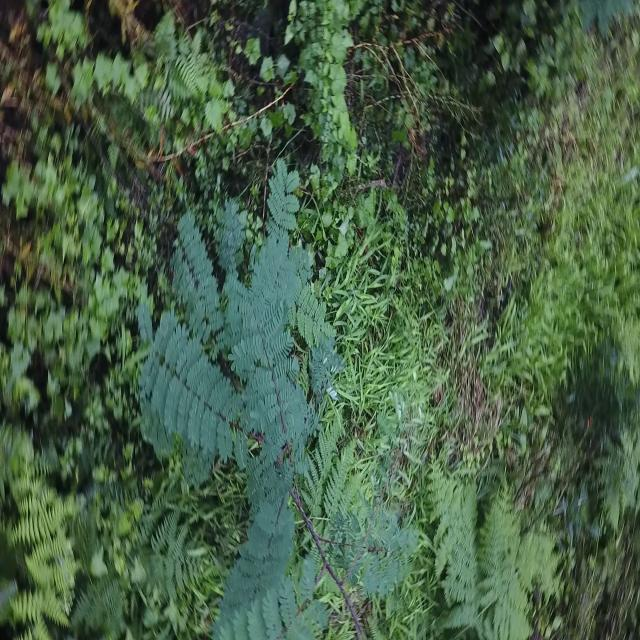Mysore-Thorn-Weed: (138, 153, 407, 640), (578, 0, 634, 48)
